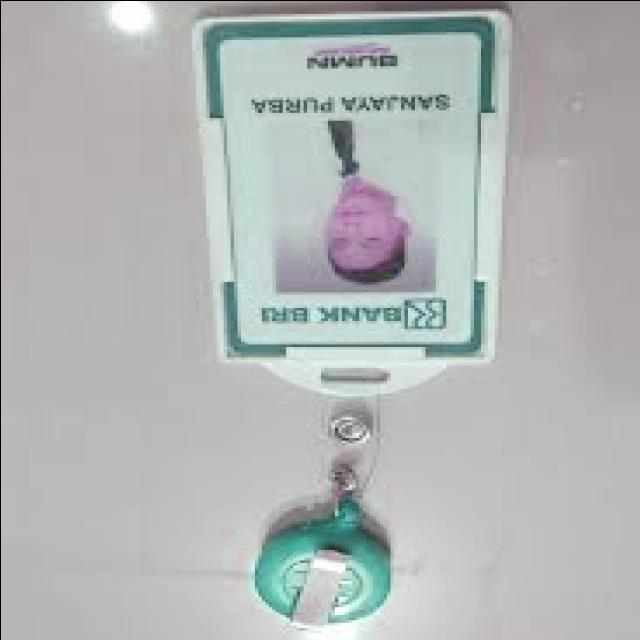ID_card: (193, 8, 517, 393)
